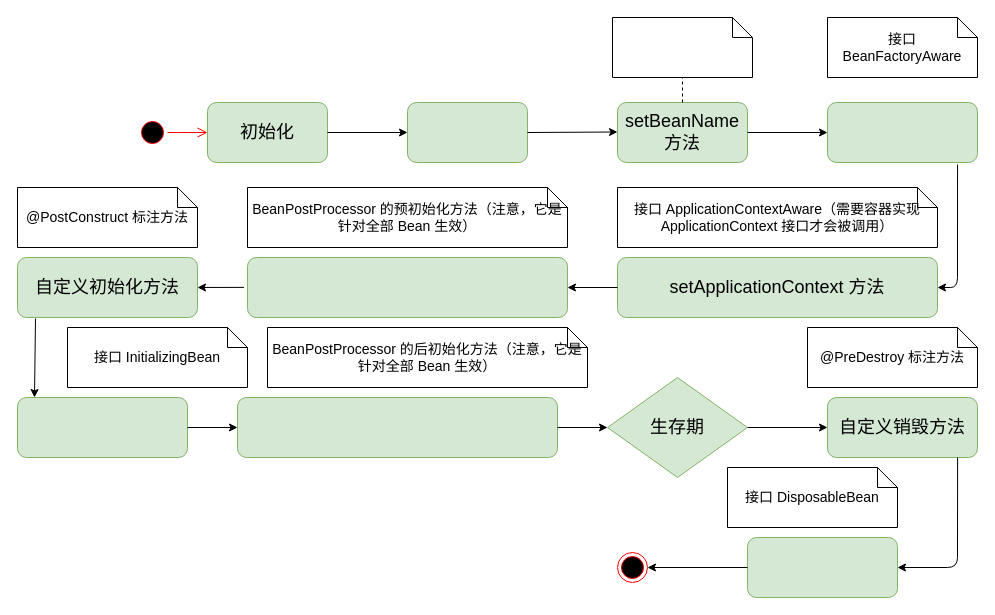
Some shapes in this 995 by 615 pixel diagram are drawn without their labels. Each missing label, with the centre of its shape:
afterPropertiesSet 方法: point 102,427
destroy 方法: point 822,567
postProcessAfterInitialization 方法: point 397,427
postProcessBeforeInitialization 方法: point 407,287
setBeanFactory 方法: point 902,132
依赖注入: point 467,132
接口 BeanNameAware: point 682,47
